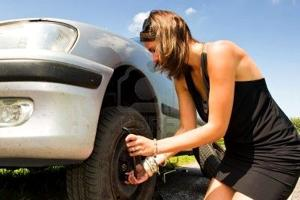person: (123, 10, 300, 200)
